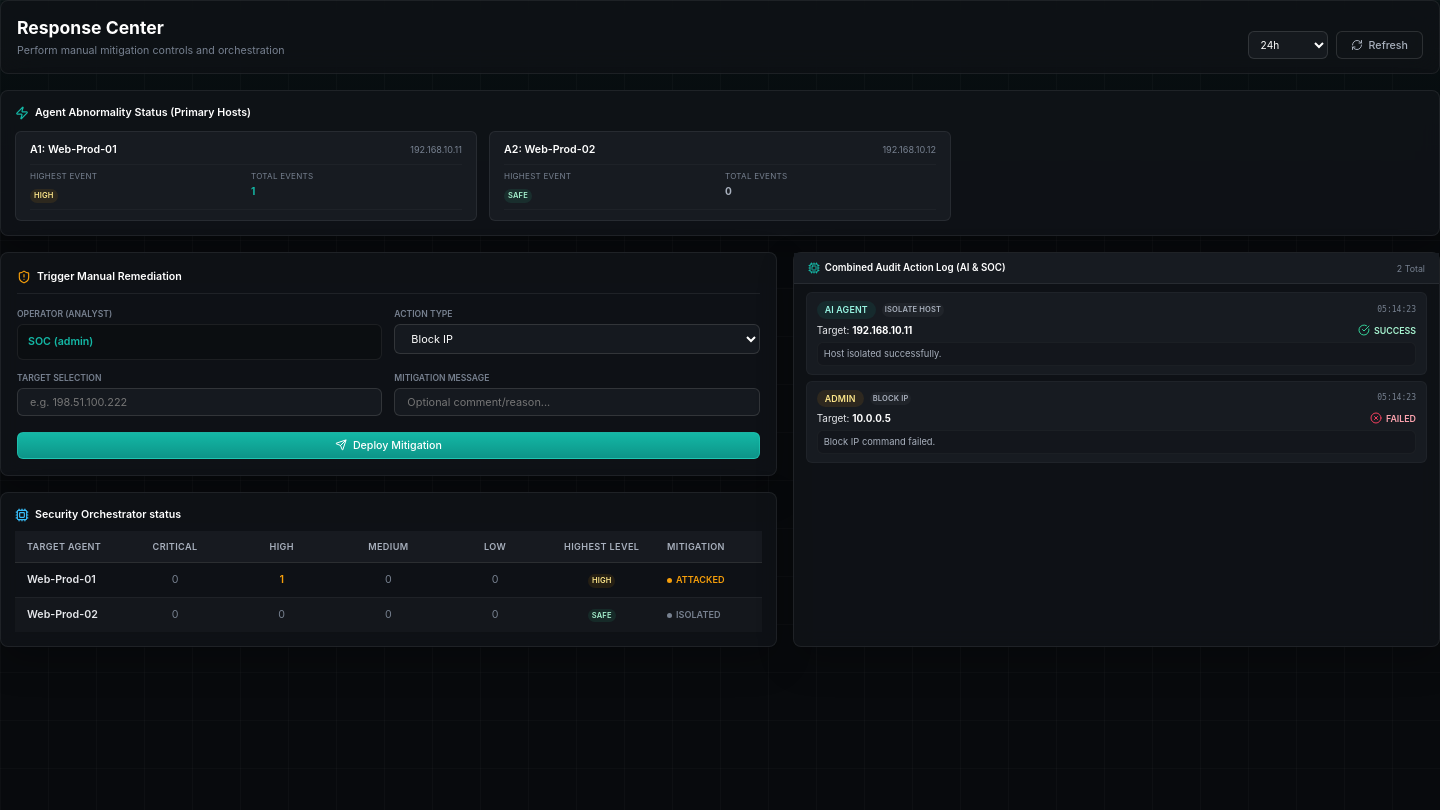
Scenario: ResponseCenter Component › remediation form submission server error flow
In the field with placeholder "e.g. 198.51.100.222": point(200, 402) [17,388,382,416], type "192.168.1.5"
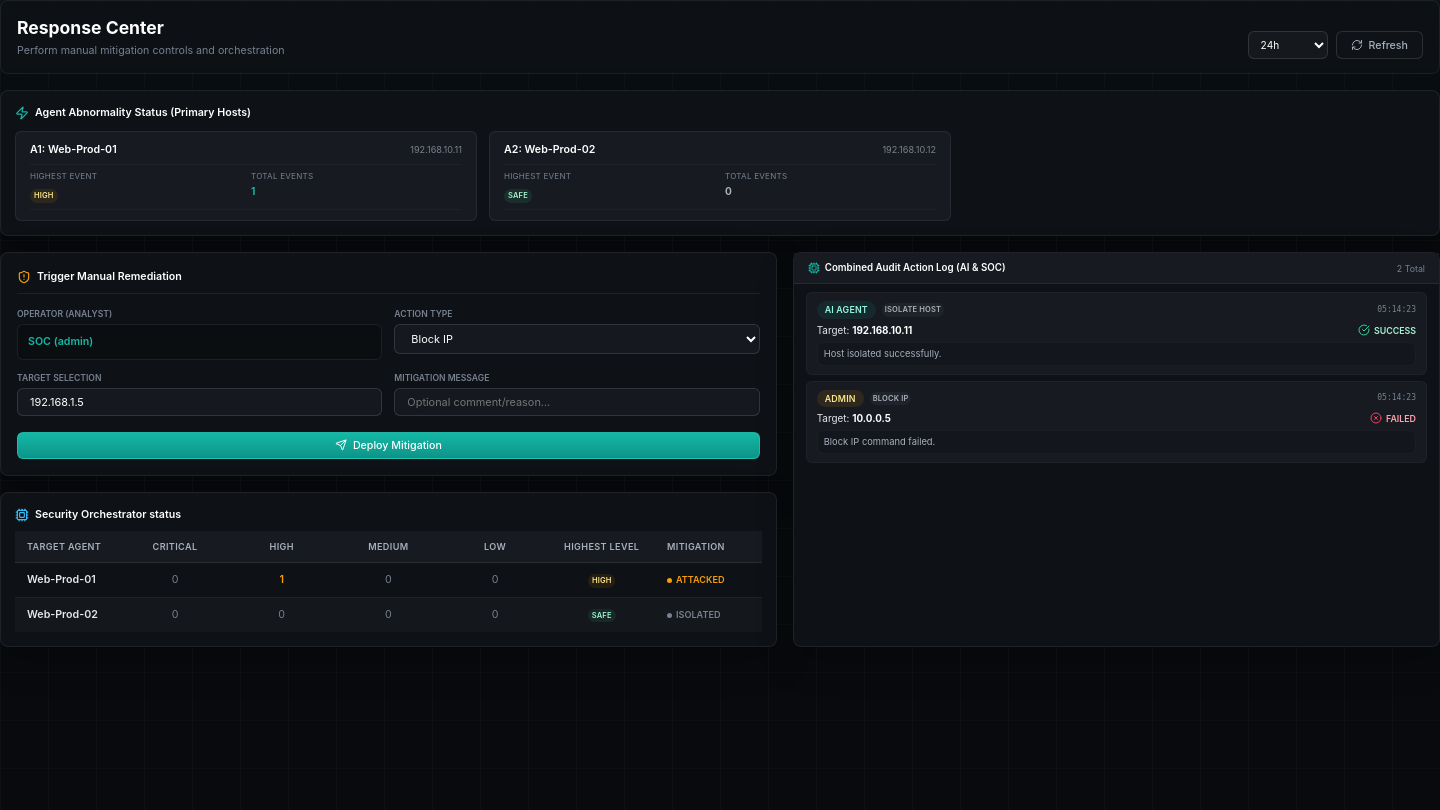
Click the button "Deploy Mitigation": point(388, 445) [17,432,760,459]
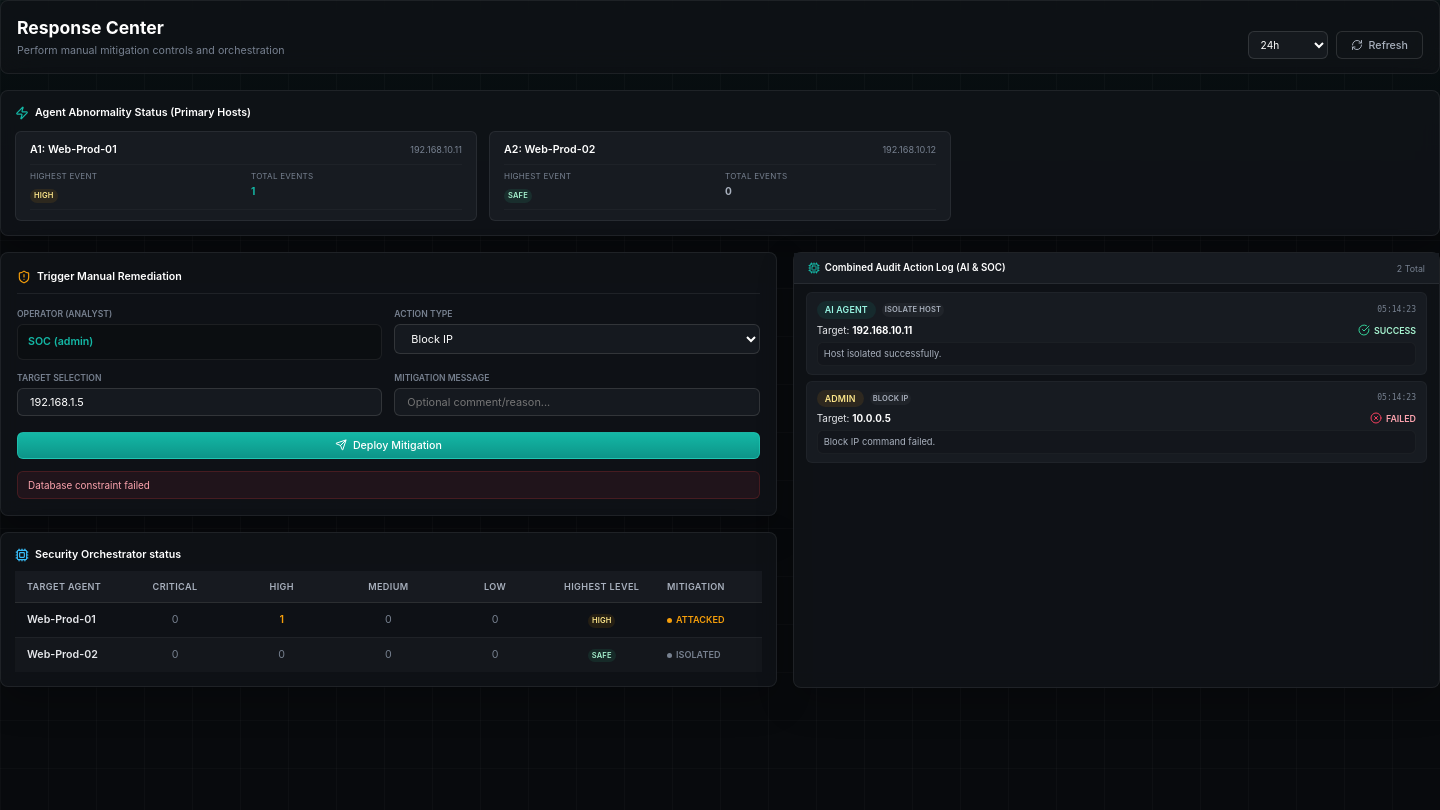
Result: the text "Database constraint failed" is shown at [17,471,760,499]
